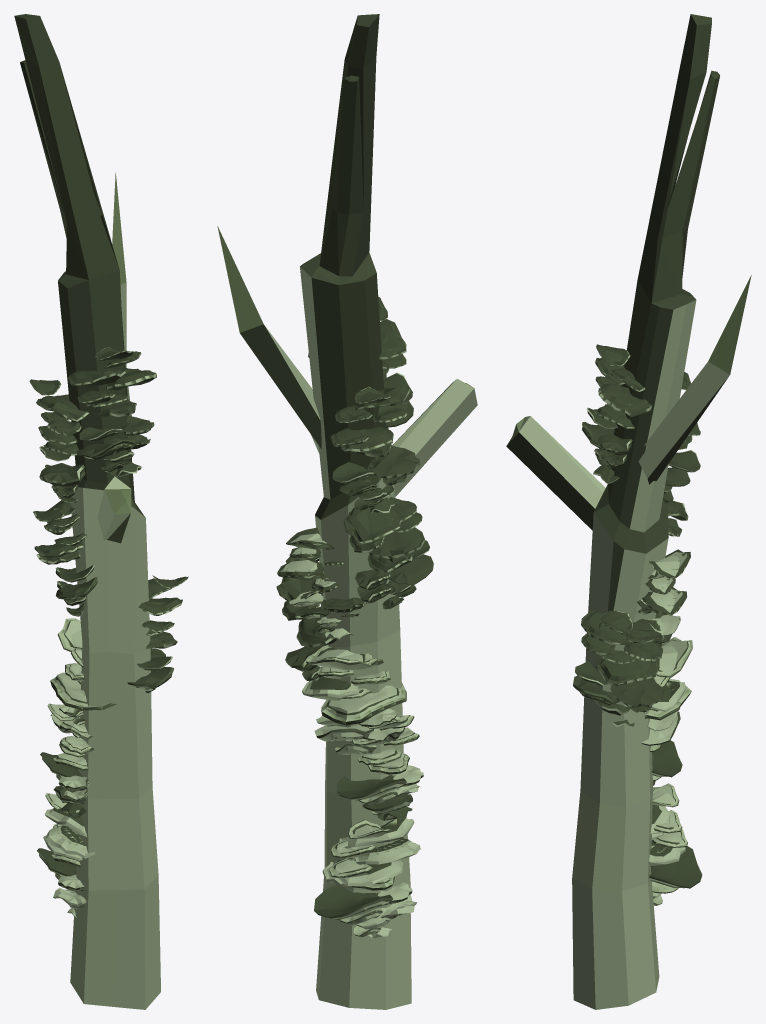
The model's file is EA_Swamp_BrokenTree_01c.glb.
3 views of the same model, side by side, from view 1: azimuth 30°, elevation 25°; view 2: azimuth 150°, elevation 25°; view 3: azimuth 270°, elevation 25° (orthographic). The views are drawn at different scales.
Parts seen in each view (by area): view 1: EA_Swamp_BrokenTree_01c; view 2: EA_Swamp_BrokenTree_01c; view 3: EA_Swamp_BrokenTree_01c.
Part boxes in pixels (box(x1,y1,x2,y2)): EA_Swamp_BrokenTree_01c: box(14, 14, 188, 1009); EA_Swamp_BrokenTree_01c: box(217, 14, 477, 1009); EA_Swamp_BrokenTree_01c: box(506, 14, 751, 1009).
Bounding box in the file's own units: 1.32 × 9.05 × 2.1.
1 material, 1 textured.
